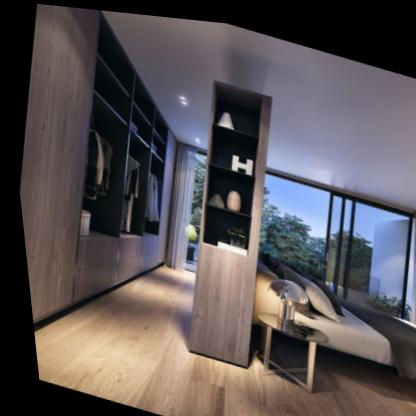Transparent Closet: (49, 17, 165, 316)
